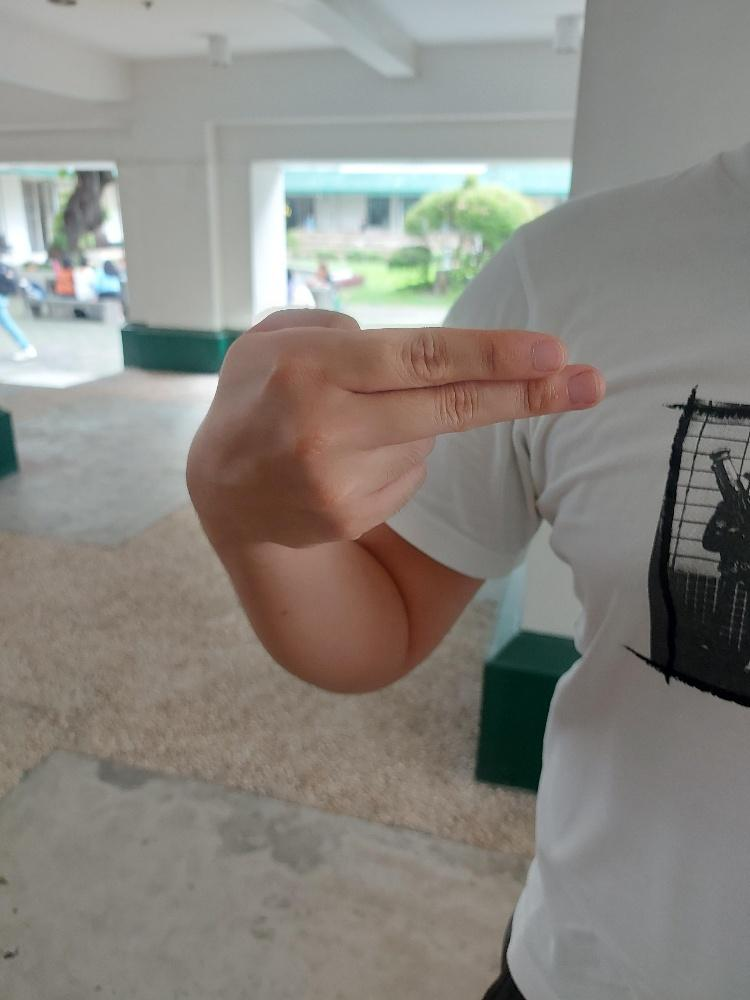h: (183, 301, 611, 552)
